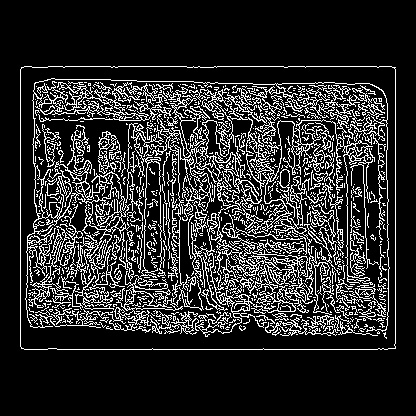buddha-sleeping: (102, 156, 265, 233)
